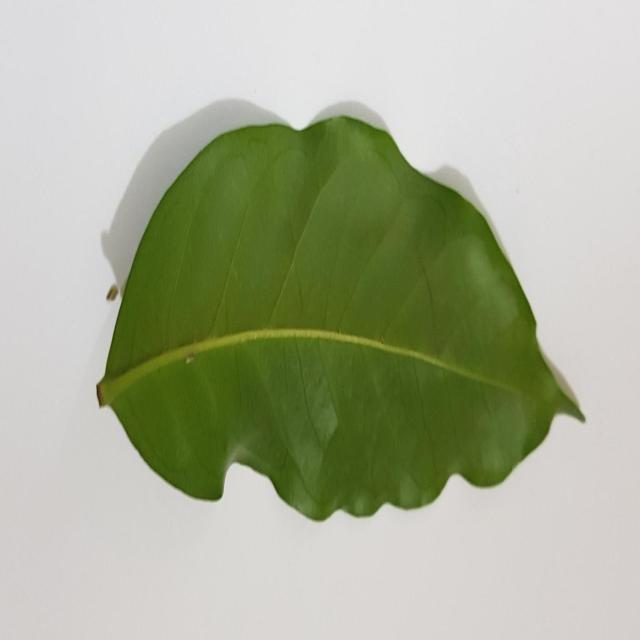nodisease: (97, 114, 585, 521)
